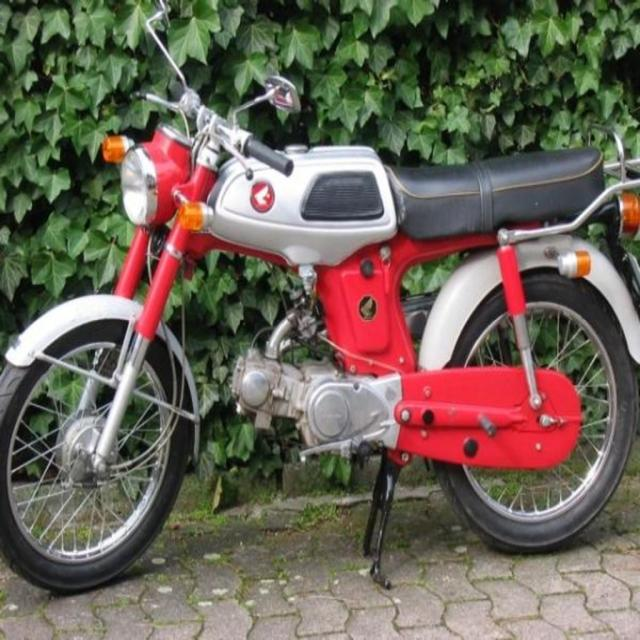Motorbikes: (3, 116, 636, 597)
